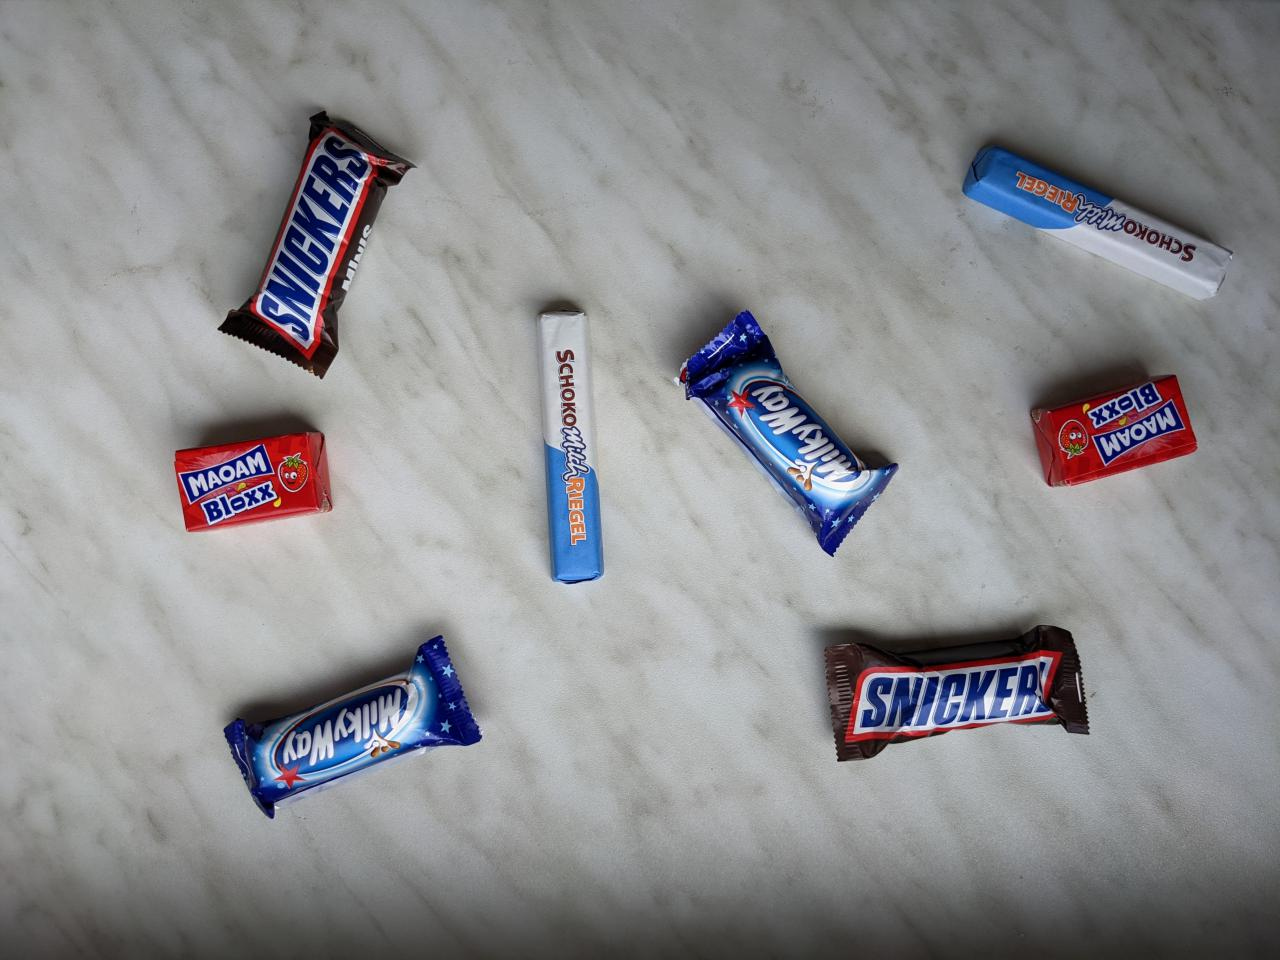MAOAM: (1027, 369, 1203, 492), (171, 426, 338, 537)
MilkyWay: (670, 306, 906, 564), (218, 629, 491, 824)
Schokoriegel: (958, 141, 1242, 305), (533, 304, 610, 591)
Snickers: (214, 104, 423, 384), (819, 618, 1095, 767)
